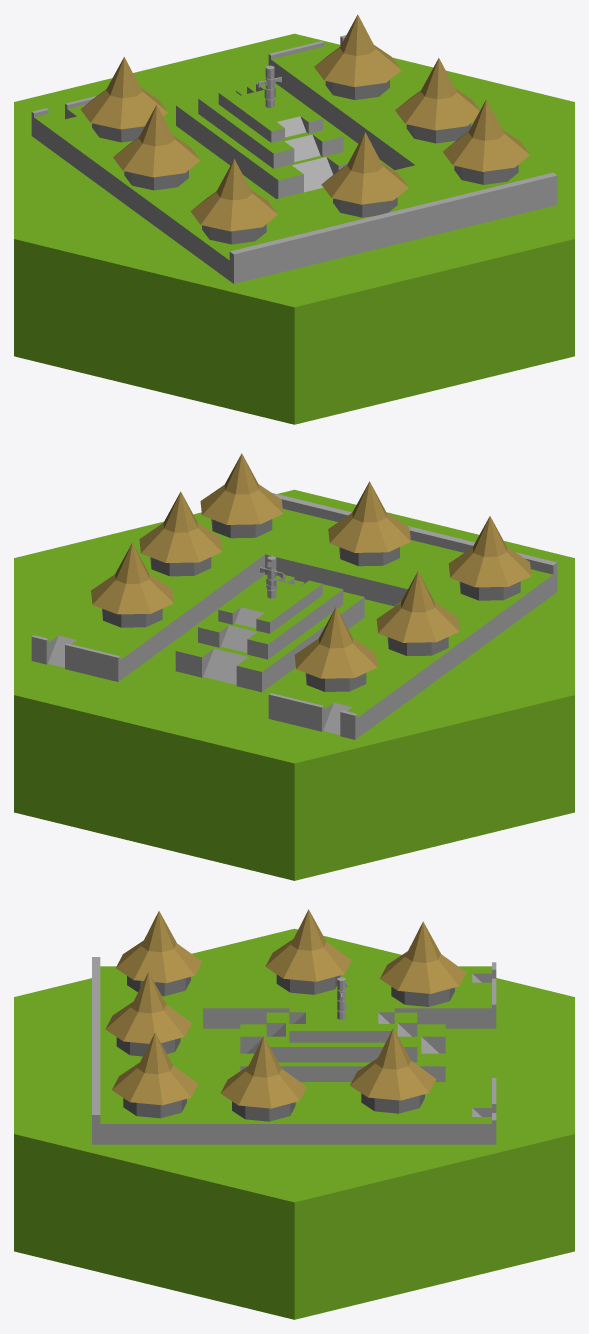
Rendered from Asentamiento_03.fbx.
The picture shows the model from 3 angles, top to bottom: view 1: azimuth 30°, elevation 25°; view 2: azimuth 150°, elevation 25°; view 3: azimuth 270°, elevation 25°; orthographic projection.
Parts seen in each view (by area): view 1: Asentamiento_03; view 2: Asentamiento_03; view 3: Asentamiento_03.
Boxes of the visible parts, <box> form: Asentamiento_03: <box>14,14,574,424</box>; Asentamiento_03: <box>14,453,574,880</box>; Asentamiento_03: <box>14,909,574,1319</box>.
Bounding box in the file's own units: 200 × 71.57 × 173.
